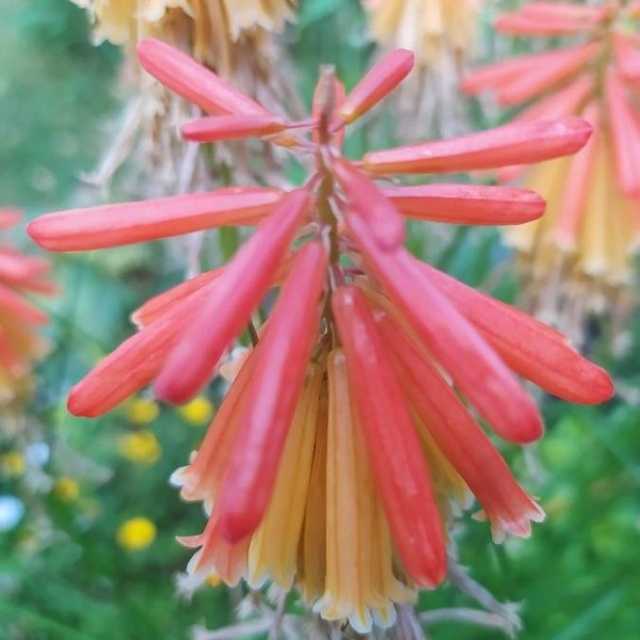obstacle: (83, 60, 580, 580)
